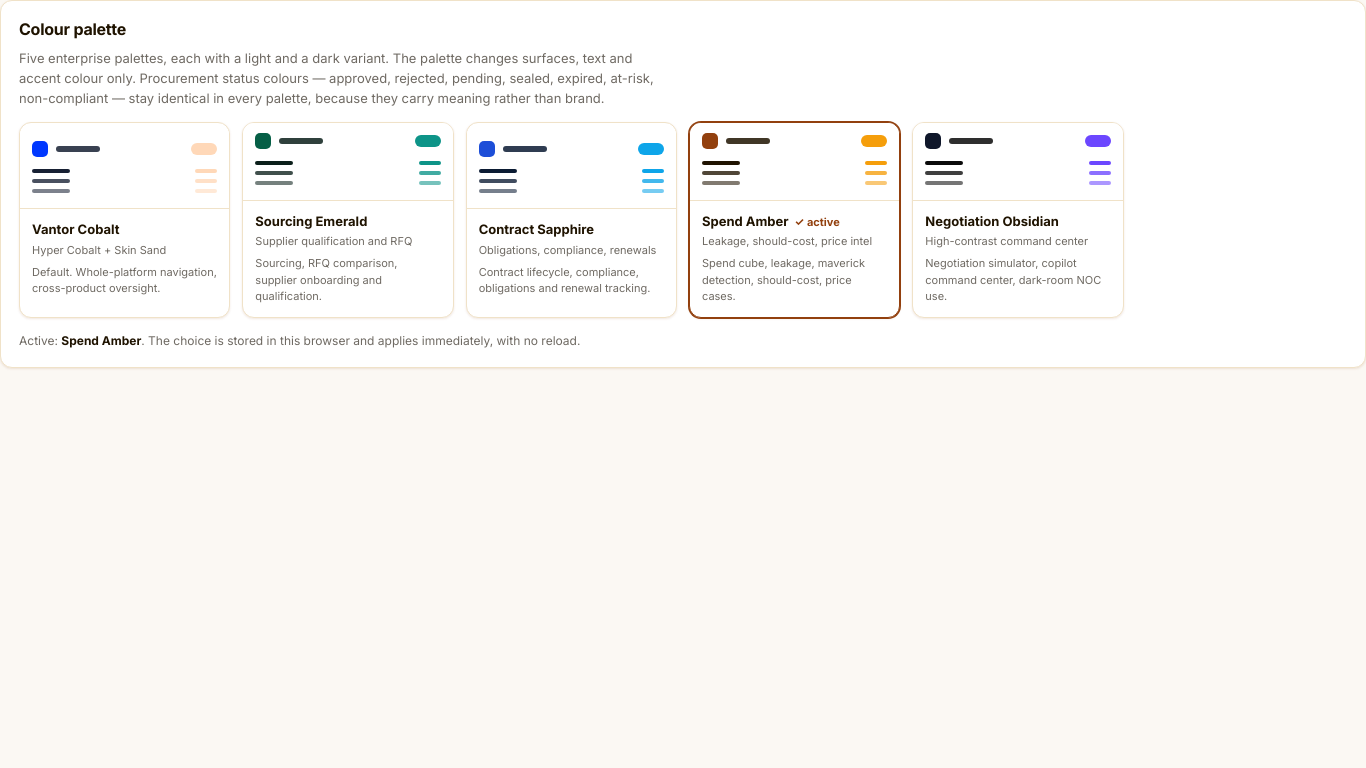
Test: palette switcher accessibility › selects with a click too, and updates the summary
Click the button "Contract Sapphire".
click(571, 220)  # box [466, 122, 677, 318]
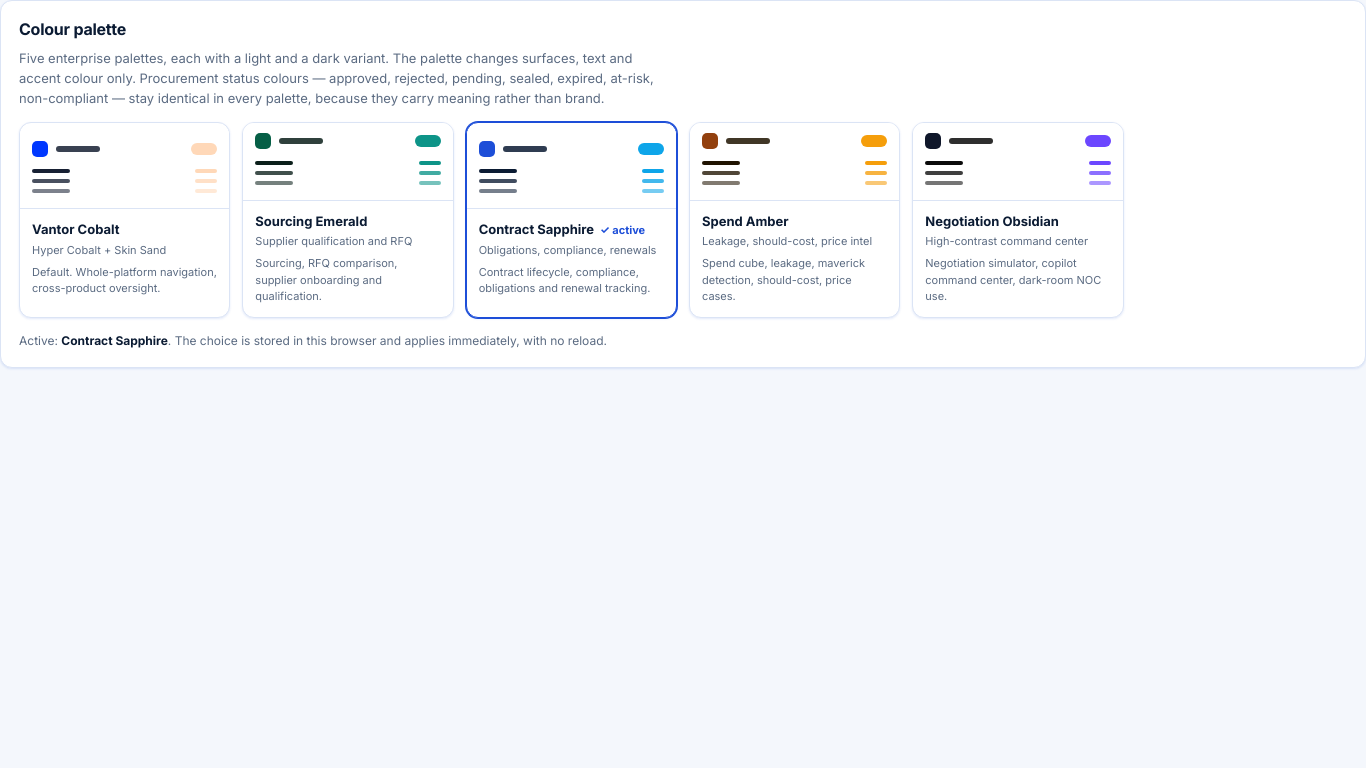
Check: the text "Active:" shows "Contract Sapphire", box [61, 333, 168, 348]
